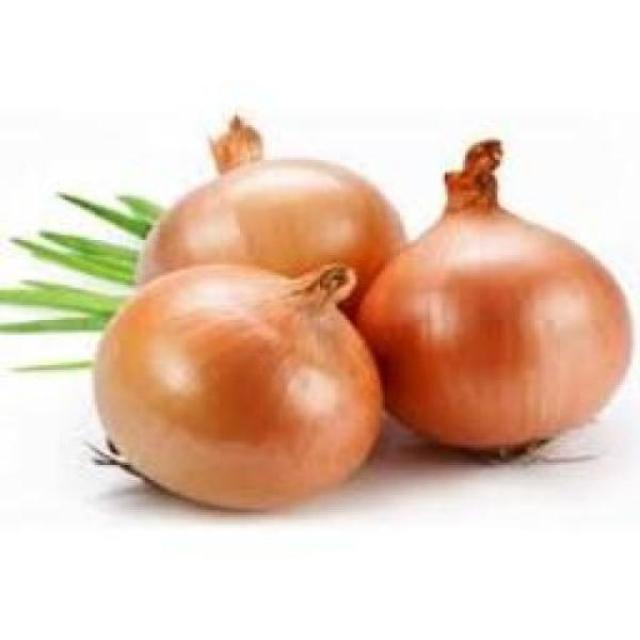Onion: (353, 142, 634, 452), (92, 261, 385, 515), (135, 159, 406, 321)
